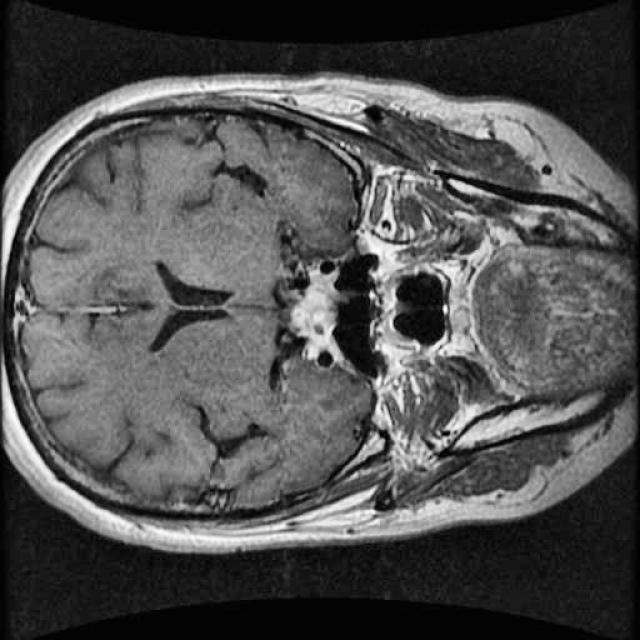Tumor: (280, 272, 351, 349)
